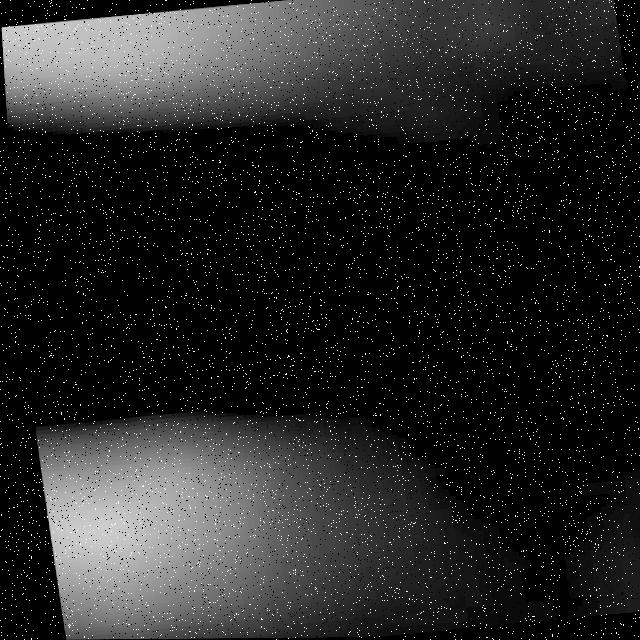person: (1, 1, 600, 179), (20, 346, 350, 640)
